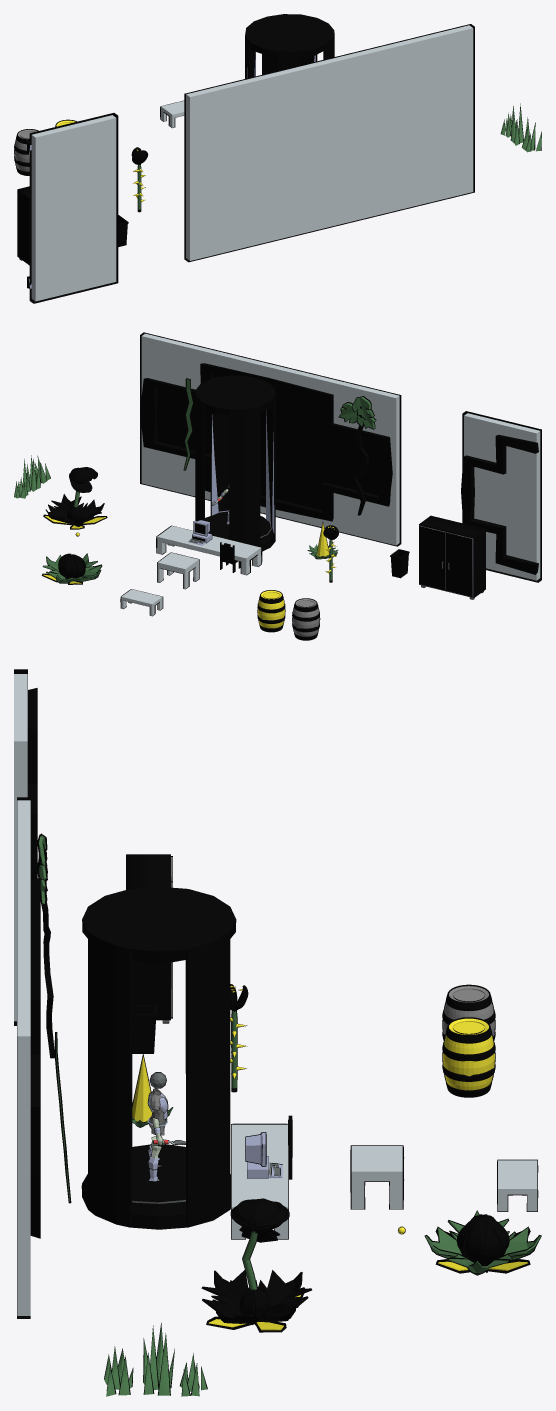
The model's file is Budding7.fbx.
3 renders of one model, top to bottom at view 1: azimuth 30°, elevation 25°; view 2: azimuth 150°, elevation 25°; view 3: azimuth 270°, elevation 25°, orthographic. The views are drawn at different scales.
Parts seen in each view (by area): view 1: wall panel, door_half, Cylinder.002, cabinet, Cylinder.003, table3, Grass_05; view 2: wall panel, Cylinder.002, door_half, cabinet, table1, flower.001, Cylinder.001, Cylinder.003, peashooter_base, table2, peashooter_rotate, bud_base (+7 smaller); view 3: Cylinder.002, wall panel, door_half, peashooter_base, table1, Cylinder.001, cabinet, peashooter_rotate, table2, bud_base, bud_bud, table3 (+7 smaller).
Boxes of the visible parts, x1,y1,x2,y2 form: wall panel: [184, 24, 474, 262]; door_half: [27, 113, 118, 303]; Cylinder.002: [245, 14, 334, 78]; cabinet: [17, 186, 29, 265]; Cylinder.003: [14, 129, 38, 175]; table3: [160, 100, 184, 128]; Grass_05: [510, 103, 529, 145]; wall panel: [140, 332, 401, 546]; Cylinder.002: [195, 375, 275, 551]; door_half: [461, 411, 541, 582]; cabinet: [419, 515, 485, 599]; table1: [156, 525, 262, 575]; flower.001: [338, 396, 376, 515]; Cylinder.001: [257, 590, 285, 632]; Cylinder.003: [292, 598, 320, 640]; peashooter_base: [45, 494, 104, 526]; table2: [157, 552, 199, 589]; peashooter_rotate: [43, 467, 107, 529]; bud_base: [42, 553, 102, 583]; Cylinder.002: [81, 886, 236, 1229]; wall panel: [17, 797, 40, 1318]; door_half: [14, 669, 37, 1025]; peashooter_base: [201, 1270, 311, 1325]; table1: [231, 1123, 288, 1239]; Cylinder.001: [442, 1017, 495, 1097]; cabinet: [126, 854, 172, 1023]; peashooter_rotate: [206, 1198, 304, 1332]; table2: [350, 1145, 404, 1209]; bud_base: [424, 1210, 541, 1275]; bud_bud: [456, 1214, 509, 1265]; table3: [497, 1159, 538, 1211].
Size of the model in its own units: 1715 by 514 by 855.
